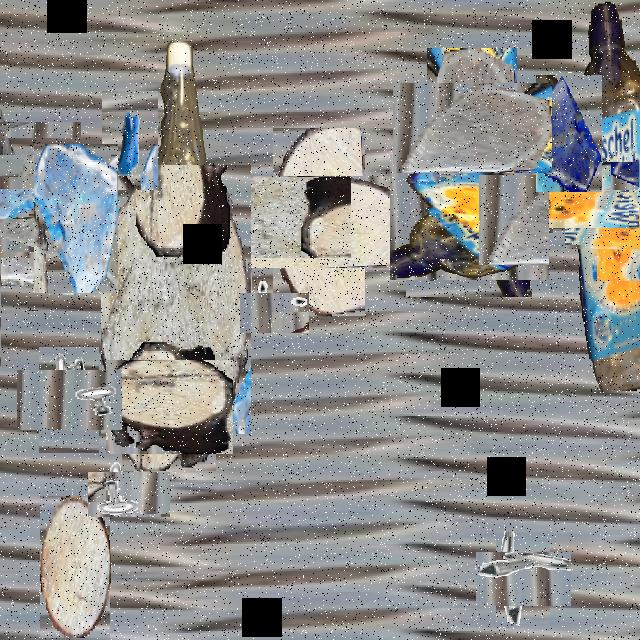glass: (410, 66, 534, 190), (34, 144, 118, 293), (0, 171, 80, 269), (536, 75, 602, 192), (0, 89, 48, 170), (0, 283, 28, 338)
metal: (28, 358, 110, 442), (486, 542, 560, 617), (102, 91, 158, 190), (581, 190, 640, 264), (97, 462, 161, 526), (246, 285, 302, 341), (490, 186, 546, 241)
plastic: (66, 108, 284, 326), (493, 82, 640, 308), (398, 146, 540, 288)
wood: (101, 166, 251, 436), (249, 152, 389, 292), (113, 352, 224, 462), (40, 496, 110, 638)
